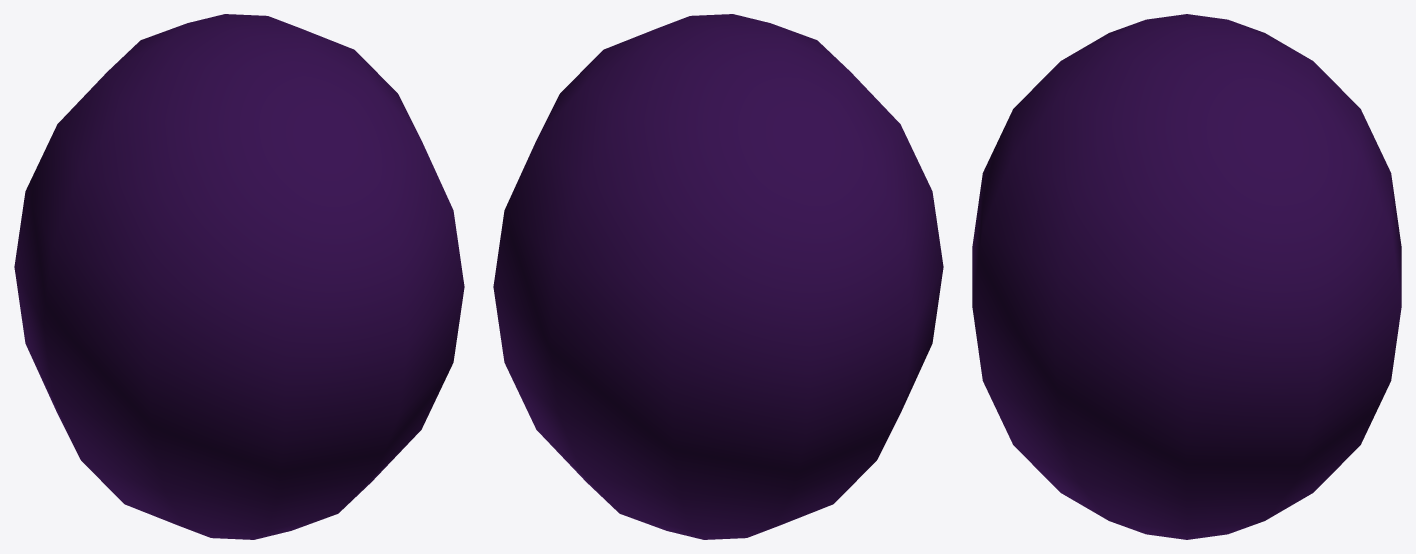
Rendered from Vagalumorte_stage1.obj.
The picture shows the model from 3 angles, left to right: view 1: azimuth 30°, elevation 25°; view 2: azimuth 150°, elevation 25°; view 3: azimuth 270°, elevation 25°; orthographic projection.
Size of the model in its own units: 1.6 by 1.92 by 1.52.
